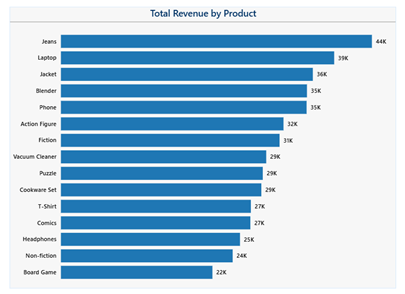

What the dashboard file says about the page in this screenshot:
{"tool":"powerbi","page":{"name":"Top Selling Products","canvas":[1280,720],"ordinal":3},"visuals":[{"type":"barChart","fields":{"Y":["ecommerce_dataset.Total Revenue"],"Category":["ecommerce_dataset.Product"]},"box":[288,64,784,576],"z":12001}]}

Visuals, with their boxes on the page's 1280x720 design canvas (x1, y1, x2, y2). These are canvas units, not pixel positions in the 405x294 screenshot, which may show the page scaled, cropped or inside an application window:
barChart - ecommerce_dataset.Total Revenue x ecommerce_dataset.Product: (x1=288, y1=64, x2=1072, y2=640)
